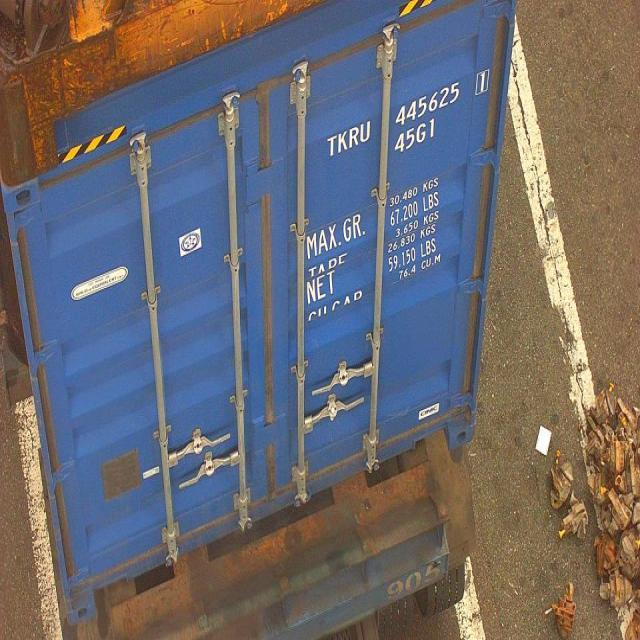ISO: (396, 116, 438, 157)
container_number: (326, 68, 494, 166)
